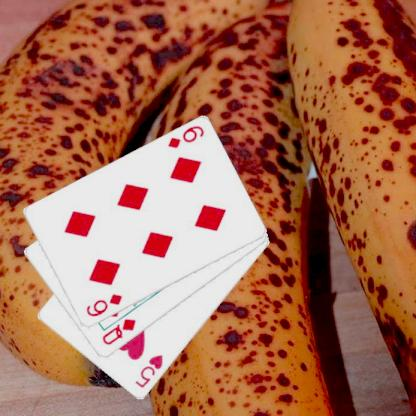5H: (132, 352, 164, 390)
6D: (164, 123, 206, 150), (84, 291, 124, 318)
QD: (99, 316, 137, 347)
